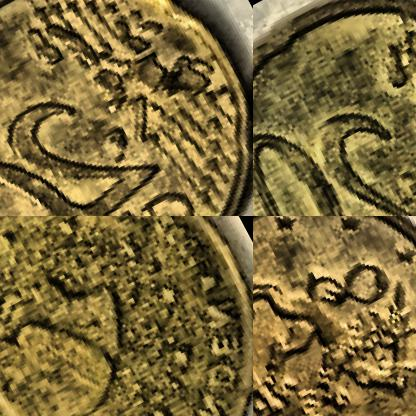coin: (0, 0, 252, 215), (0, 216, 252, 415), (253, 0, 415, 215), (253, 216, 415, 415)
